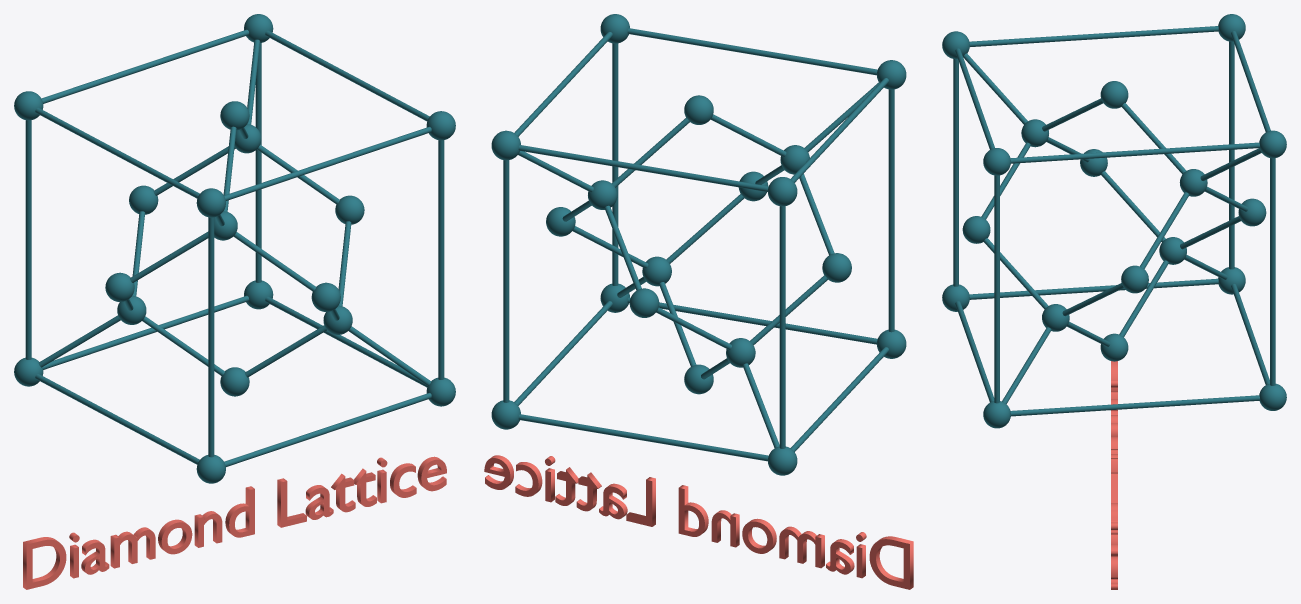
3 views of the same model, side by side, from view 1: azimuth 30°, elevation 25°; view 2: azimuth 150°, elevation 25°; view 3: azimuth 270°, elevation 25° (orthographic). The views are drawn at different scales.
Visible parts, largest first — view 1: ZnS Unit Cell, Text; view 2: ZnS Unit Cell, Text; view 3: ZnS Unit Cell, Text.
Boxes of the visible parts, <box> form: ZnS Unit Cell: <box>14,14,455,483</box>; Text: <box>23,456,446,589</box>; ZnS Unit Cell: <box>491,14,906,475</box>; Text: <box>484,455,913,589</box>; ZnS Unit Cell: <box>942,14,1286,428</box>; Text: <box>1111,361,1117,589</box>.
Bounding box in the file's own units: 3.31 × 3.27 × 2.47.
